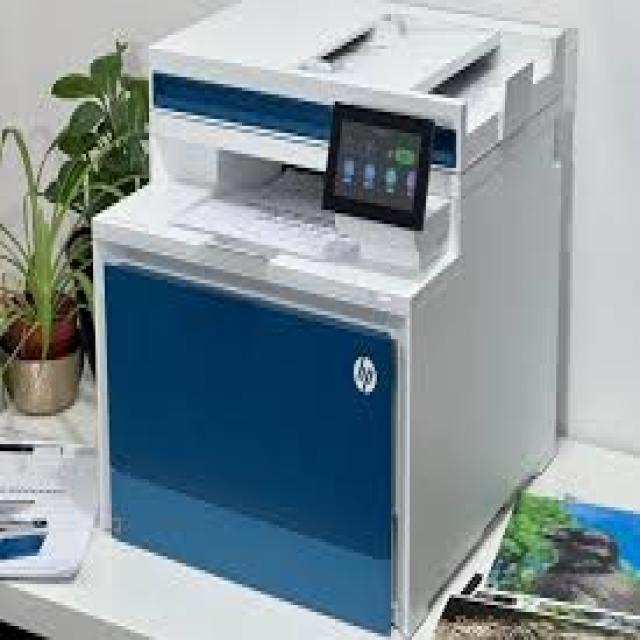printer: (88, 0, 575, 637)
